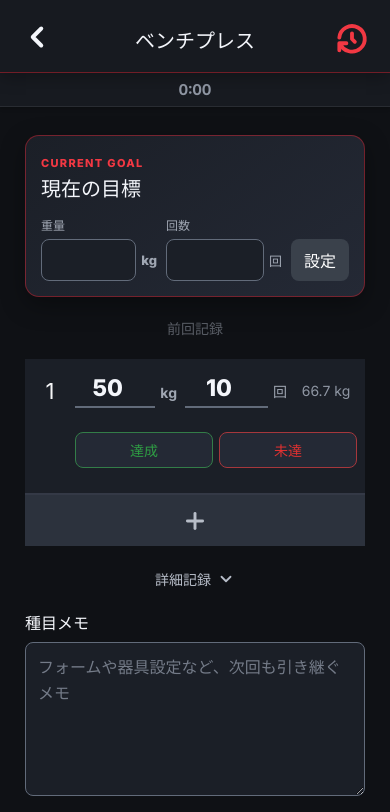
Test: DetailScreen set inputs › 重量入力中の文字列を保ち、保存値は数値へ変換する
Replace the text in the number field labelled "kg" with "60.5". click: (115, 389)
box: left=75, top=370, right=155, bottom=408
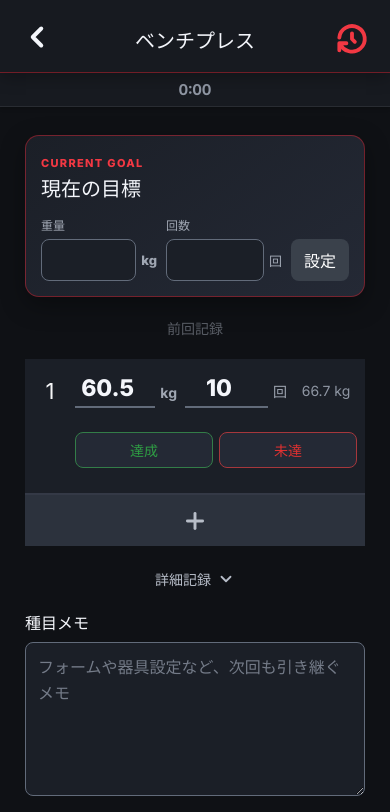
Leave the number field labelled "kg", box left=75, top=370, right=155, bottom=408
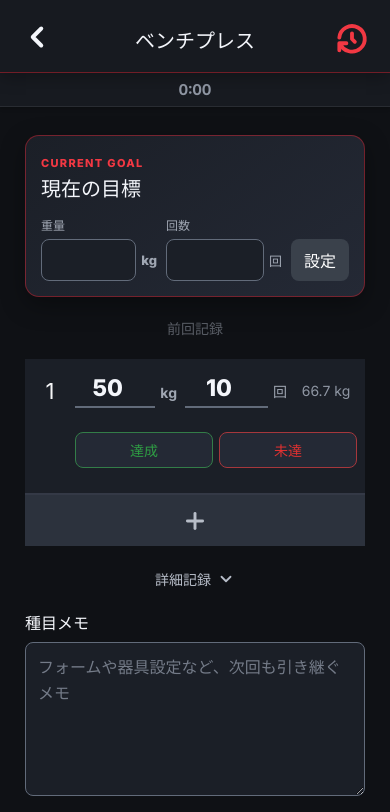
Now the number field labelled "kg" holds "50", box left=75, top=370, right=155, bottom=408
